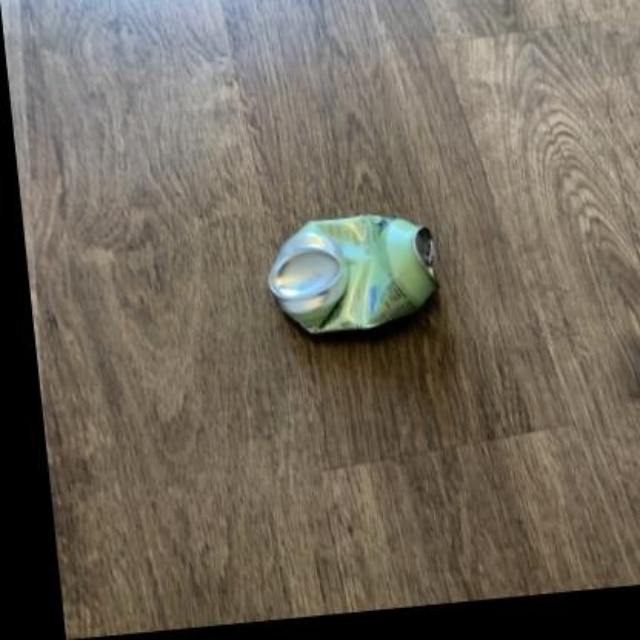trash: (269, 215, 434, 332)
